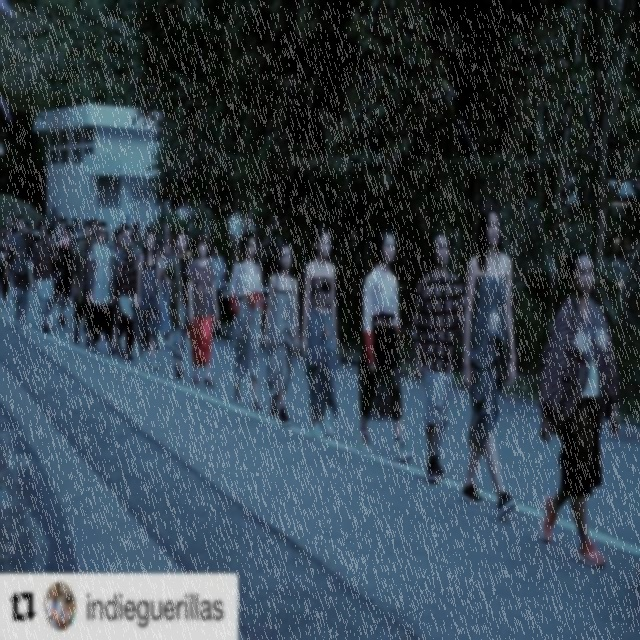pessoa: (534, 245, 622, 572), (458, 198, 521, 520), (410, 228, 468, 486), (356, 226, 414, 464), (298, 226, 342, 441), (262, 240, 302, 427), (226, 226, 266, 410), (184, 232, 220, 388), (164, 228, 193, 379), (90, 220, 118, 356), (136, 231, 162, 372), (113, 226, 139, 362), (29, 219, 58, 337), (4, 214, 34, 326), (70, 222, 96, 348), (153, 238, 180, 348), (52, 222, 77, 330), (52, 233, 75, 329), (44, 580, 76, 632), (207, 241, 230, 297), (0, 227, 12, 308), (116, 218, 146, 250), (160, 222, 177, 256), (88, 216, 101, 246), (52, 216, 66, 238), (4, 216, 16, 230), (22, 220, 34, 233), (203, 227, 212, 244)
